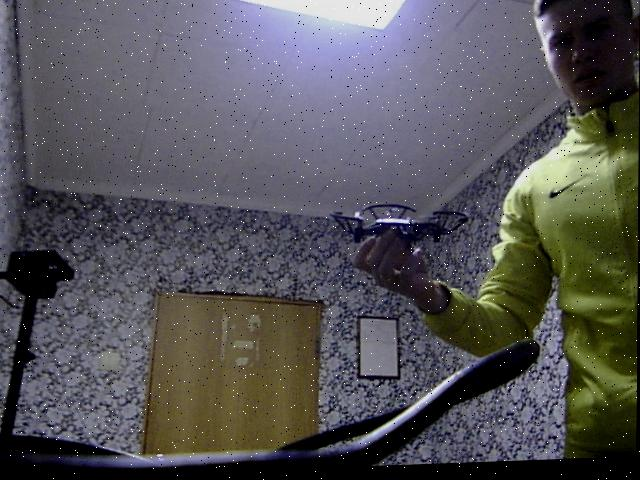drone: (331, 196, 476, 260)
